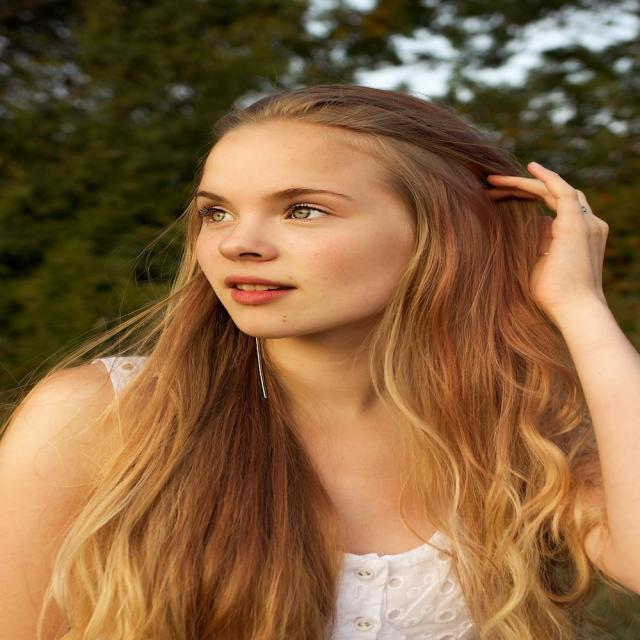Nonhelmet: (178, 67, 473, 362)
